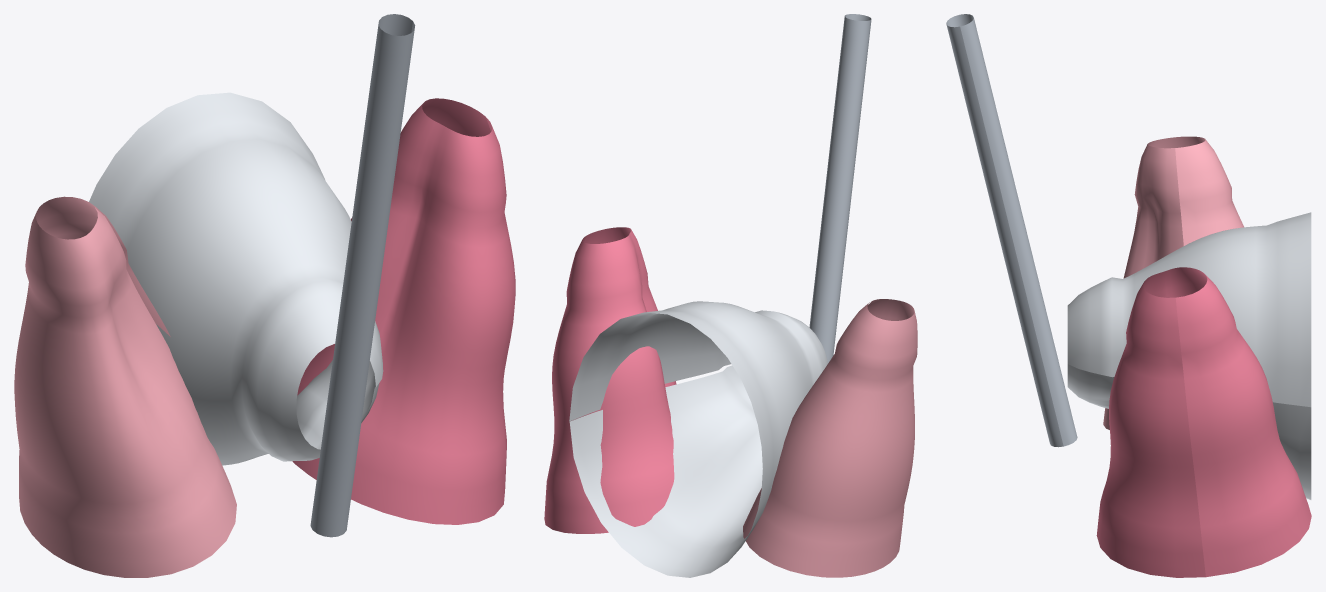
The model's file is respiratory.glb.
3 views of the same model, side by side, from view 1: azimuth 30°, elevation 25°; view 2: azimuth 150°, elevation 25°; view 3: azimuth 270°, elevation 25° (orthographic). The views are drawn at different scales.
Parts seen in each view (by area): view 1: Mesh_Bovine_PleuraParietalis, Mesh_Bovine_PulmoSinister, Mesh_Bovine_PulmoDexter, Mesh_Bovine_Trachea_BronchusTrachealis; view 2: Mesh_Bovine_PleuraParietalis, Mesh_Bovine_PulmoSinister, Mesh_Bovine_PulmoDexter, Mesh_Bovine_Trachea_BronchusTrachealis; view 3: Mesh_Bovine_PulmoDexter, Mesh_Bovine_PleuraParietalis, Mesh_Bovine_Trachea_BronchusTrachealis, Mesh_Bovine_PulmoSinister.
Part boxes in pixels (x1=…): Mesh_Bovine_PleuraParietalis: x1=89, y1=92, x2=383, y2=465; Mesh_Bovine_PulmoSinister: x1=14, y1=196, x2=236, y2=577; Mesh_Bovine_PulmoDexter: x1=292, y1=98, x2=515, y2=524; Mesh_Bovine_Trachea_BronchusTrachealis: x1=310, y1=14, x2=415, y2=537; Mesh_Bovine_PleuraParietalis: x1=569, y1=301, x2=827, y2=577; Mesh_Bovine_PulmoSinister: x1=743, y1=299, x2=917, y2=577; Mesh_Bovine_PulmoDexter: x1=544, y1=227, x2=676, y2=533; Mesh_Bovine_Trachea_BronchusTrachealis: x1=809, y1=14, x2=871, y2=363; Mesh_Bovine_PulmoDexter: x1=1096, y1=267, x2=1311, y2=577; Mesh_Bovine_PleuraParietalis: x1=1067, y1=212, x2=1311, y2=499; Mesh_Bovine_Trachea_BronchusTrachealis: x1=946, y1=14, x2=1077, y2=447; Mesh_Bovine_PulmoSinister: x1=1103, y1=136, x2=1243, y2=429.
Size of the model in its own units: 0.8112 by 1.02 by 0.7206.
